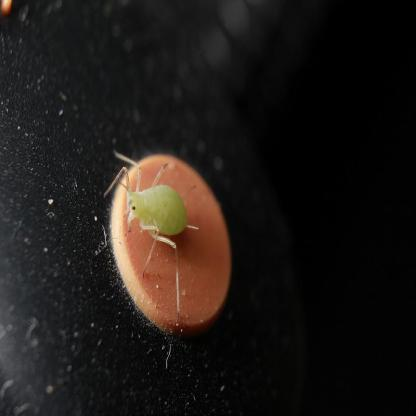aphid: (111, 152, 198, 292)
